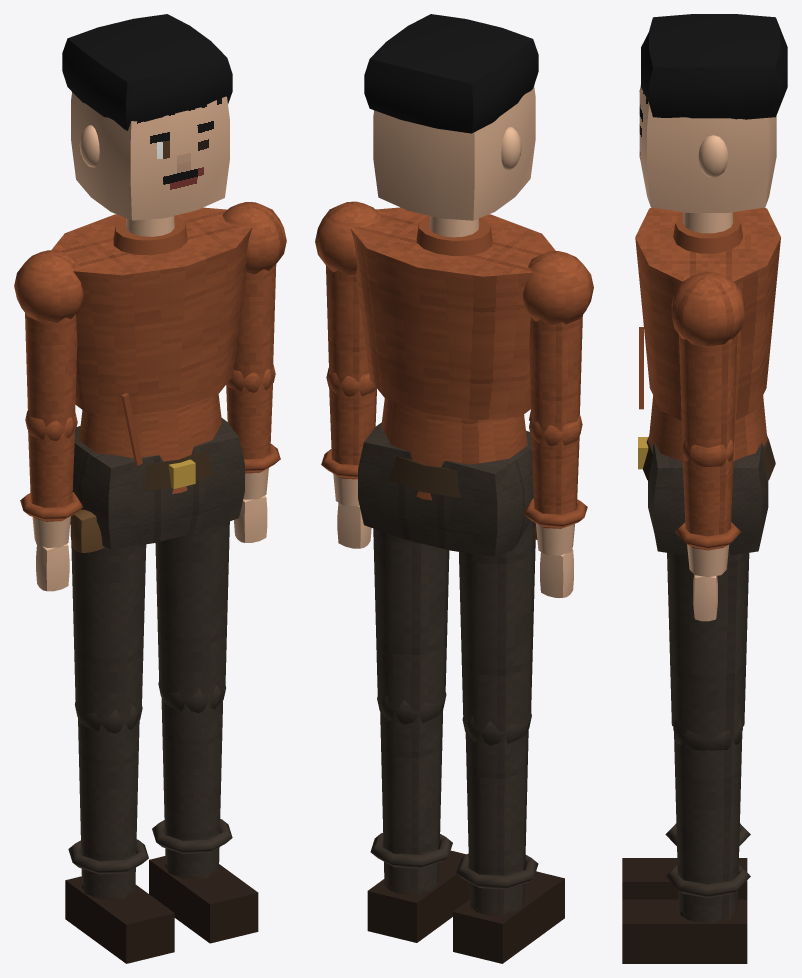
The model's file is vecino-2.glb.
3 views of the same model, side by side, from view 1: azimuth 30°, elevation 25°; view 2: azimuth 150°, elevation 25°; view 3: azimuth 270°, elevation 25° (orthographic). The views are drawn at different scales.
Parts seen in each view (by area): view 1: vecino-2, object 29, object 32, object 1, object 7, object 9, object 3, object 6, object 12, object 15, object 14, object 22 (+16 smaller); view 2: vecino-2, object 32, object 29, object 1, object 7, object 3, object 9, object 6, object 15, object 12, object 14, object 22 (+16 smaller); view 3: vecino-2, object 32, object 7, object 29, object 9, object 12, object 22, object 21, object 24, object 6, object 10, object 27 (+6 smaller).
Boxes of the visible parts, <box> form: vecino-2: <box>51,207,252,552</box>; object 29: <box>71,92,229,220</box>; object 32: <box>62,14,232,130</box>; object 1: <box>71,543,146,720</box>; object 7: <box>155,521,229,700</box>; object 9: <box>161,694,223,879</box>; object 3: <box>78,715,139,899</box>; object 6: <box>65,876,174,963</box>; object 12: <box>149,856,258,943</box>; object 15: <box>25,313,77,429</box>; object 14: <box>14,250,83,322</box>; object 22: <box>234,263,276,380</box>; vecino-2: <box>350,207,555,556</box>; object 32: <box>364,14,538,133</box>; object 29: <box>373,86,535,220</box>; object 1: <box>459,520,535,732</box>; object 7: <box>373,528,449,711</box>; object 3: <box>465,727,528,915</box>; object 9: <box>380,705,443,894</box>; object 6: <box>453,871,564,963</box>; object 15: <box>529,315,582,434</box>; object 12: <box>367,850,469,942</box>; object 14: <box>522,251,593,325</box>; object 22: <box>326,265,369,384</box>; vecino-2: <box>635,207,780,555</box>; object 32: <box>641,14,787,119</box>; object 7: <box>667,553,749,739</box>; object 29: <box>639,85,776,212</box>; object 9: <box>674,733,742,923</box>; object 12: <box>622,899,747,963</box>; object 22: <box>679,335,737,449</box>; object 21: <box>671,271,744,345</box>; object 24: <box>682,447,734,550</box>; object 6: <box>622,858,747,899</box>; object 10: <box>665,864,750,897</box>; object 27: <box>693,574,717,621</box>.
Size of the model in its own units: 0.6064 by 1.92 by 0.3223.
Materials: 14 (4 with a texture image).
